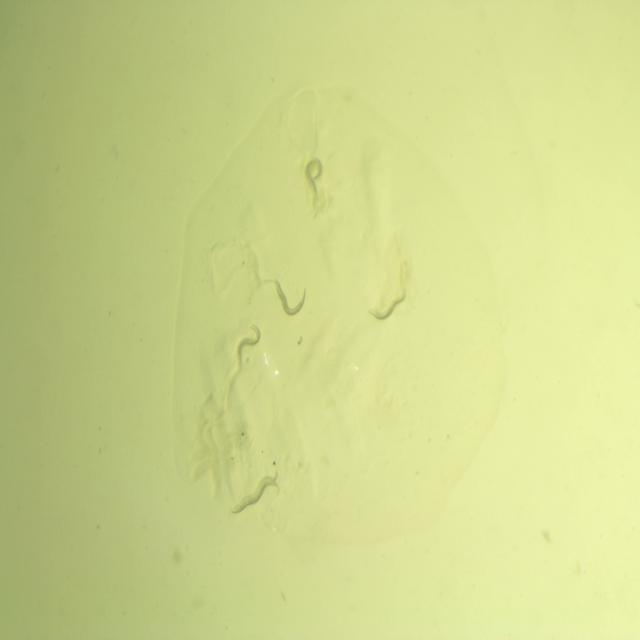worm: (365, 281, 410, 340), (262, 272, 314, 322), (226, 478, 281, 520), (234, 468, 278, 512), (233, 318, 266, 373), (302, 152, 328, 210)
